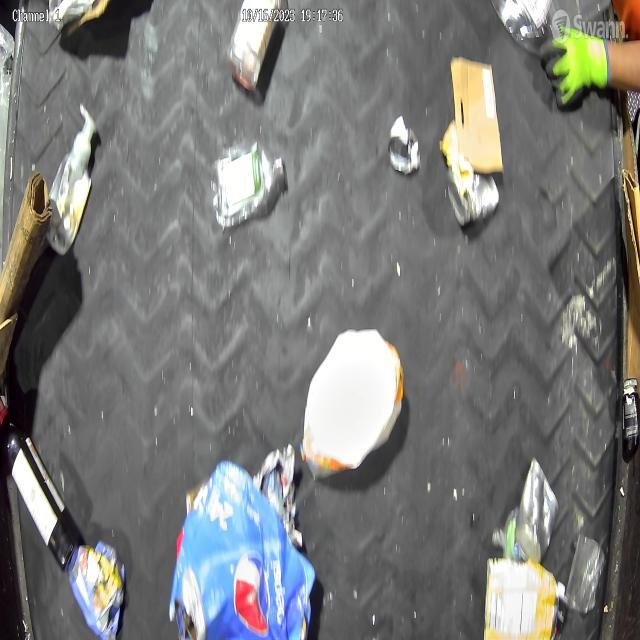can: (484, 552, 560, 640), (513, 454, 562, 563), (446, 171, 502, 226), (388, 118, 422, 173)
milk_jug: (298, 326, 407, 483)
plastic_bottle: (213, 138, 288, 227)
